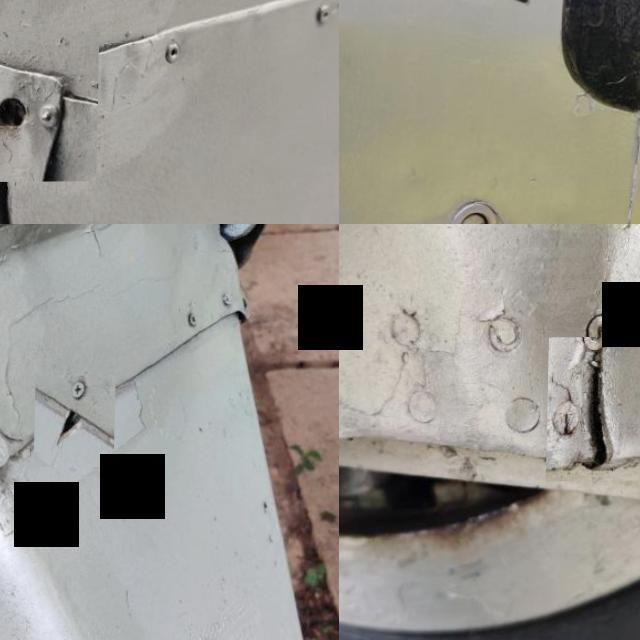Crack: (547, 337, 640, 481), (36, 376, 118, 468)
Missing_Fastener: (0, 31, 100, 182)
